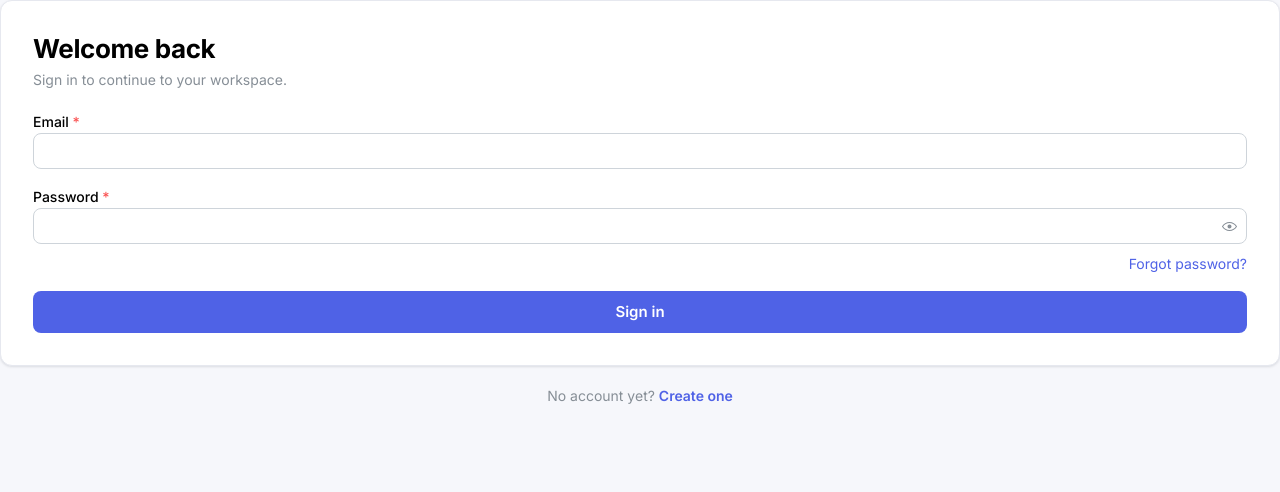
LoginForm › shows the server error message
This screenshot has width=1280, height=492.
Type "a@example.com" into the field labelled "Email *" at (640, 151), box [33,133,1247,169]
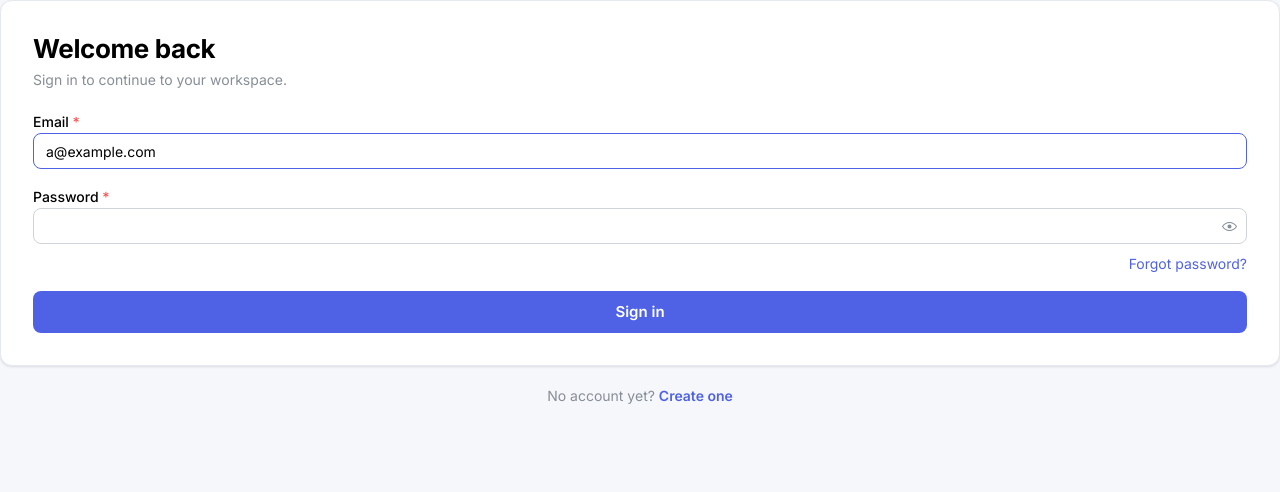
Type "wrong" into the password field labelled "Password *" at (640, 226), box [34,209,1246,243]
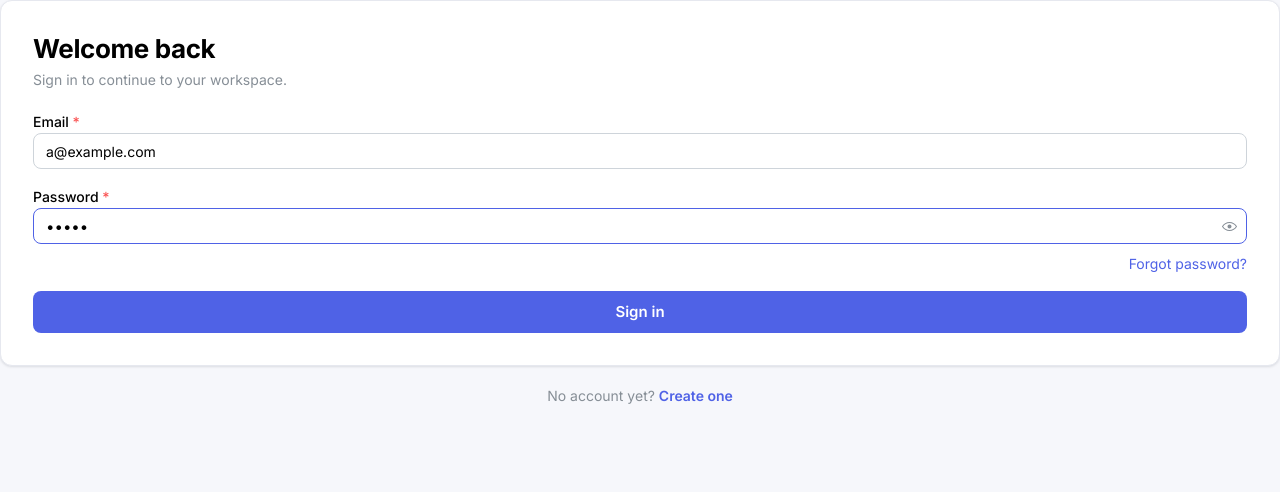
Click the button "Sign in" at (640, 312), box [33,291,1247,333]
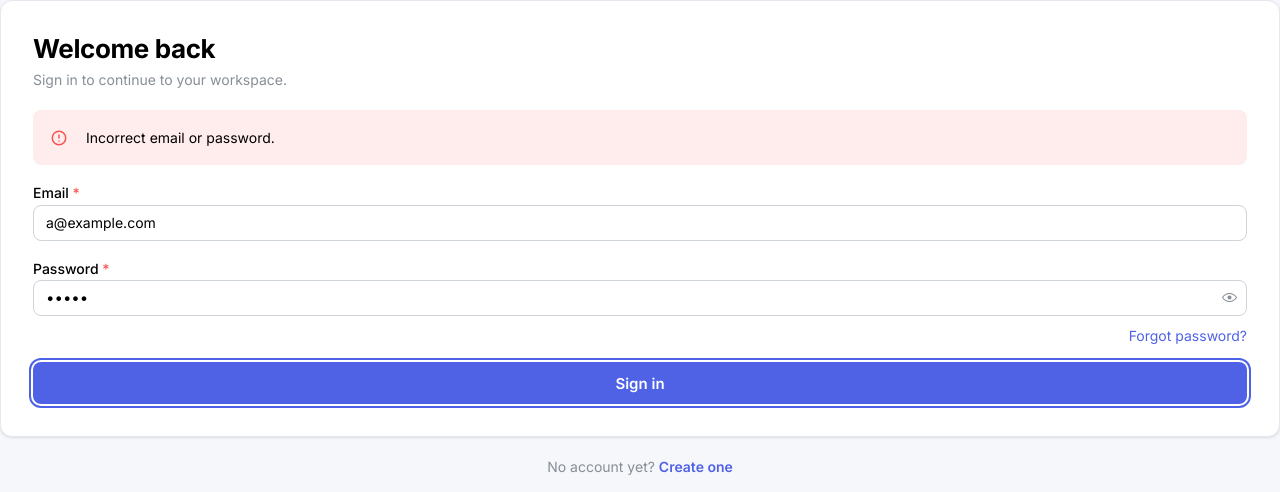
Expected: the message reads "Incorrect email or password.", [86,129,275,146]
